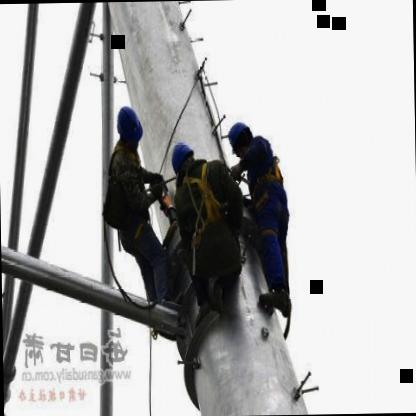helmet: (113, 98, 144, 164), (169, 139, 198, 182), (228, 115, 256, 158)
